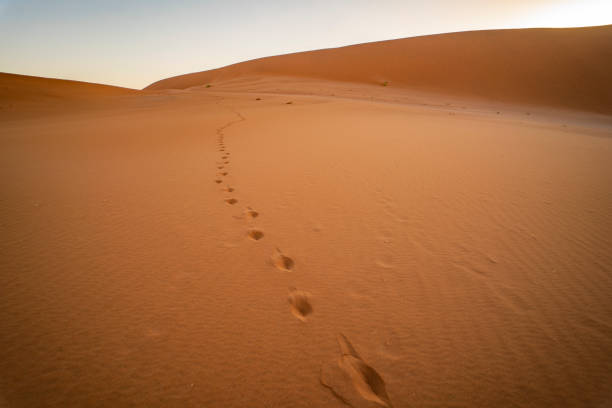human_foot_print: (320, 333, 391, 407), (288, 288, 312, 320), (271, 248, 294, 271), (247, 228, 263, 240), (245, 207, 258, 217), (224, 198, 237, 204), (223, 186, 234, 192), (218, 171, 228, 175), (214, 179, 222, 183)
